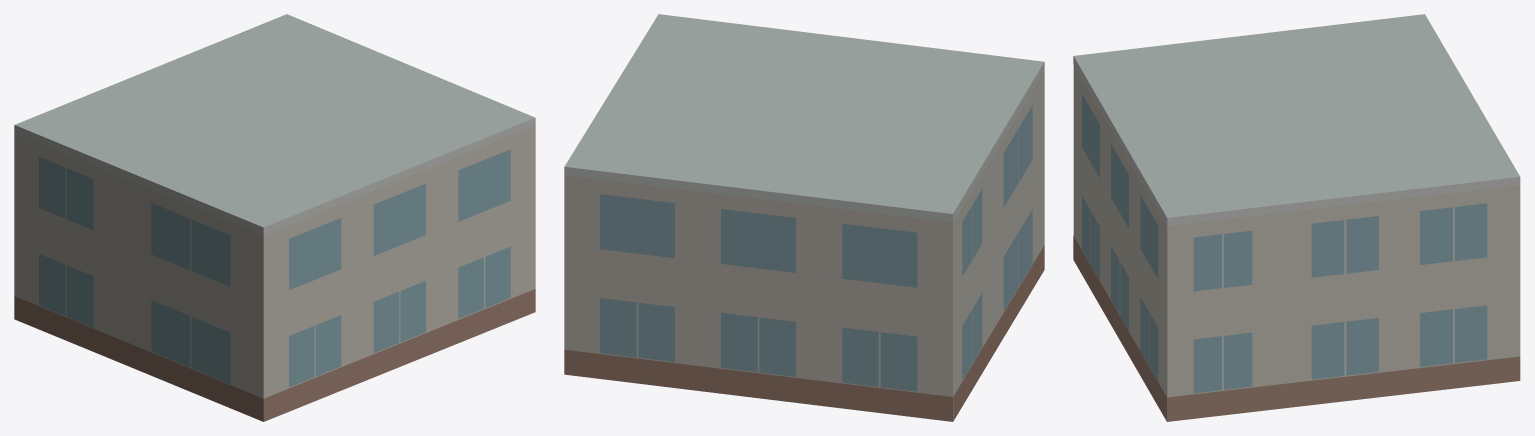
The model's file is survey-upis-32657762.glb.
3 renders of one model, left to right at view 1: azimuth 30°, elevation 25°; view 2: azimuth 150°, elevation 25°; view 3: azimuth 270°, elevation 25°, orthographic. The views are drawn at different scales.
Parts seen in each view (by area): view 1: survey-upis-32657762.tmp; view 2: survey-upis-32657762.tmp; view 3: survey-upis-32657762.tmp.
Boxes of the visible parts, bbox=[...] form: survey-upis-32657762.tmp: bbox=[14, 14, 535, 421]; survey-upis-32657762.tmp: bbox=[564, 14, 1044, 421]; survey-upis-32657762.tmp: bbox=[1073, 14, 1520, 421].
Size of the model in its own units: 13.09 by 6.1 by 12.12.
